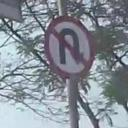NoVirarU: (46, 16, 94, 78)
